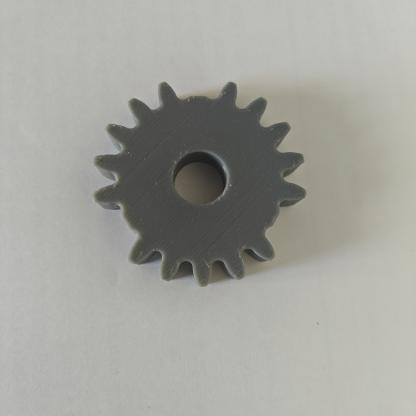defect: (68, 183, 170, 276), (243, 177, 328, 271), (148, 61, 246, 129)
gear: (53, 47, 345, 316)
